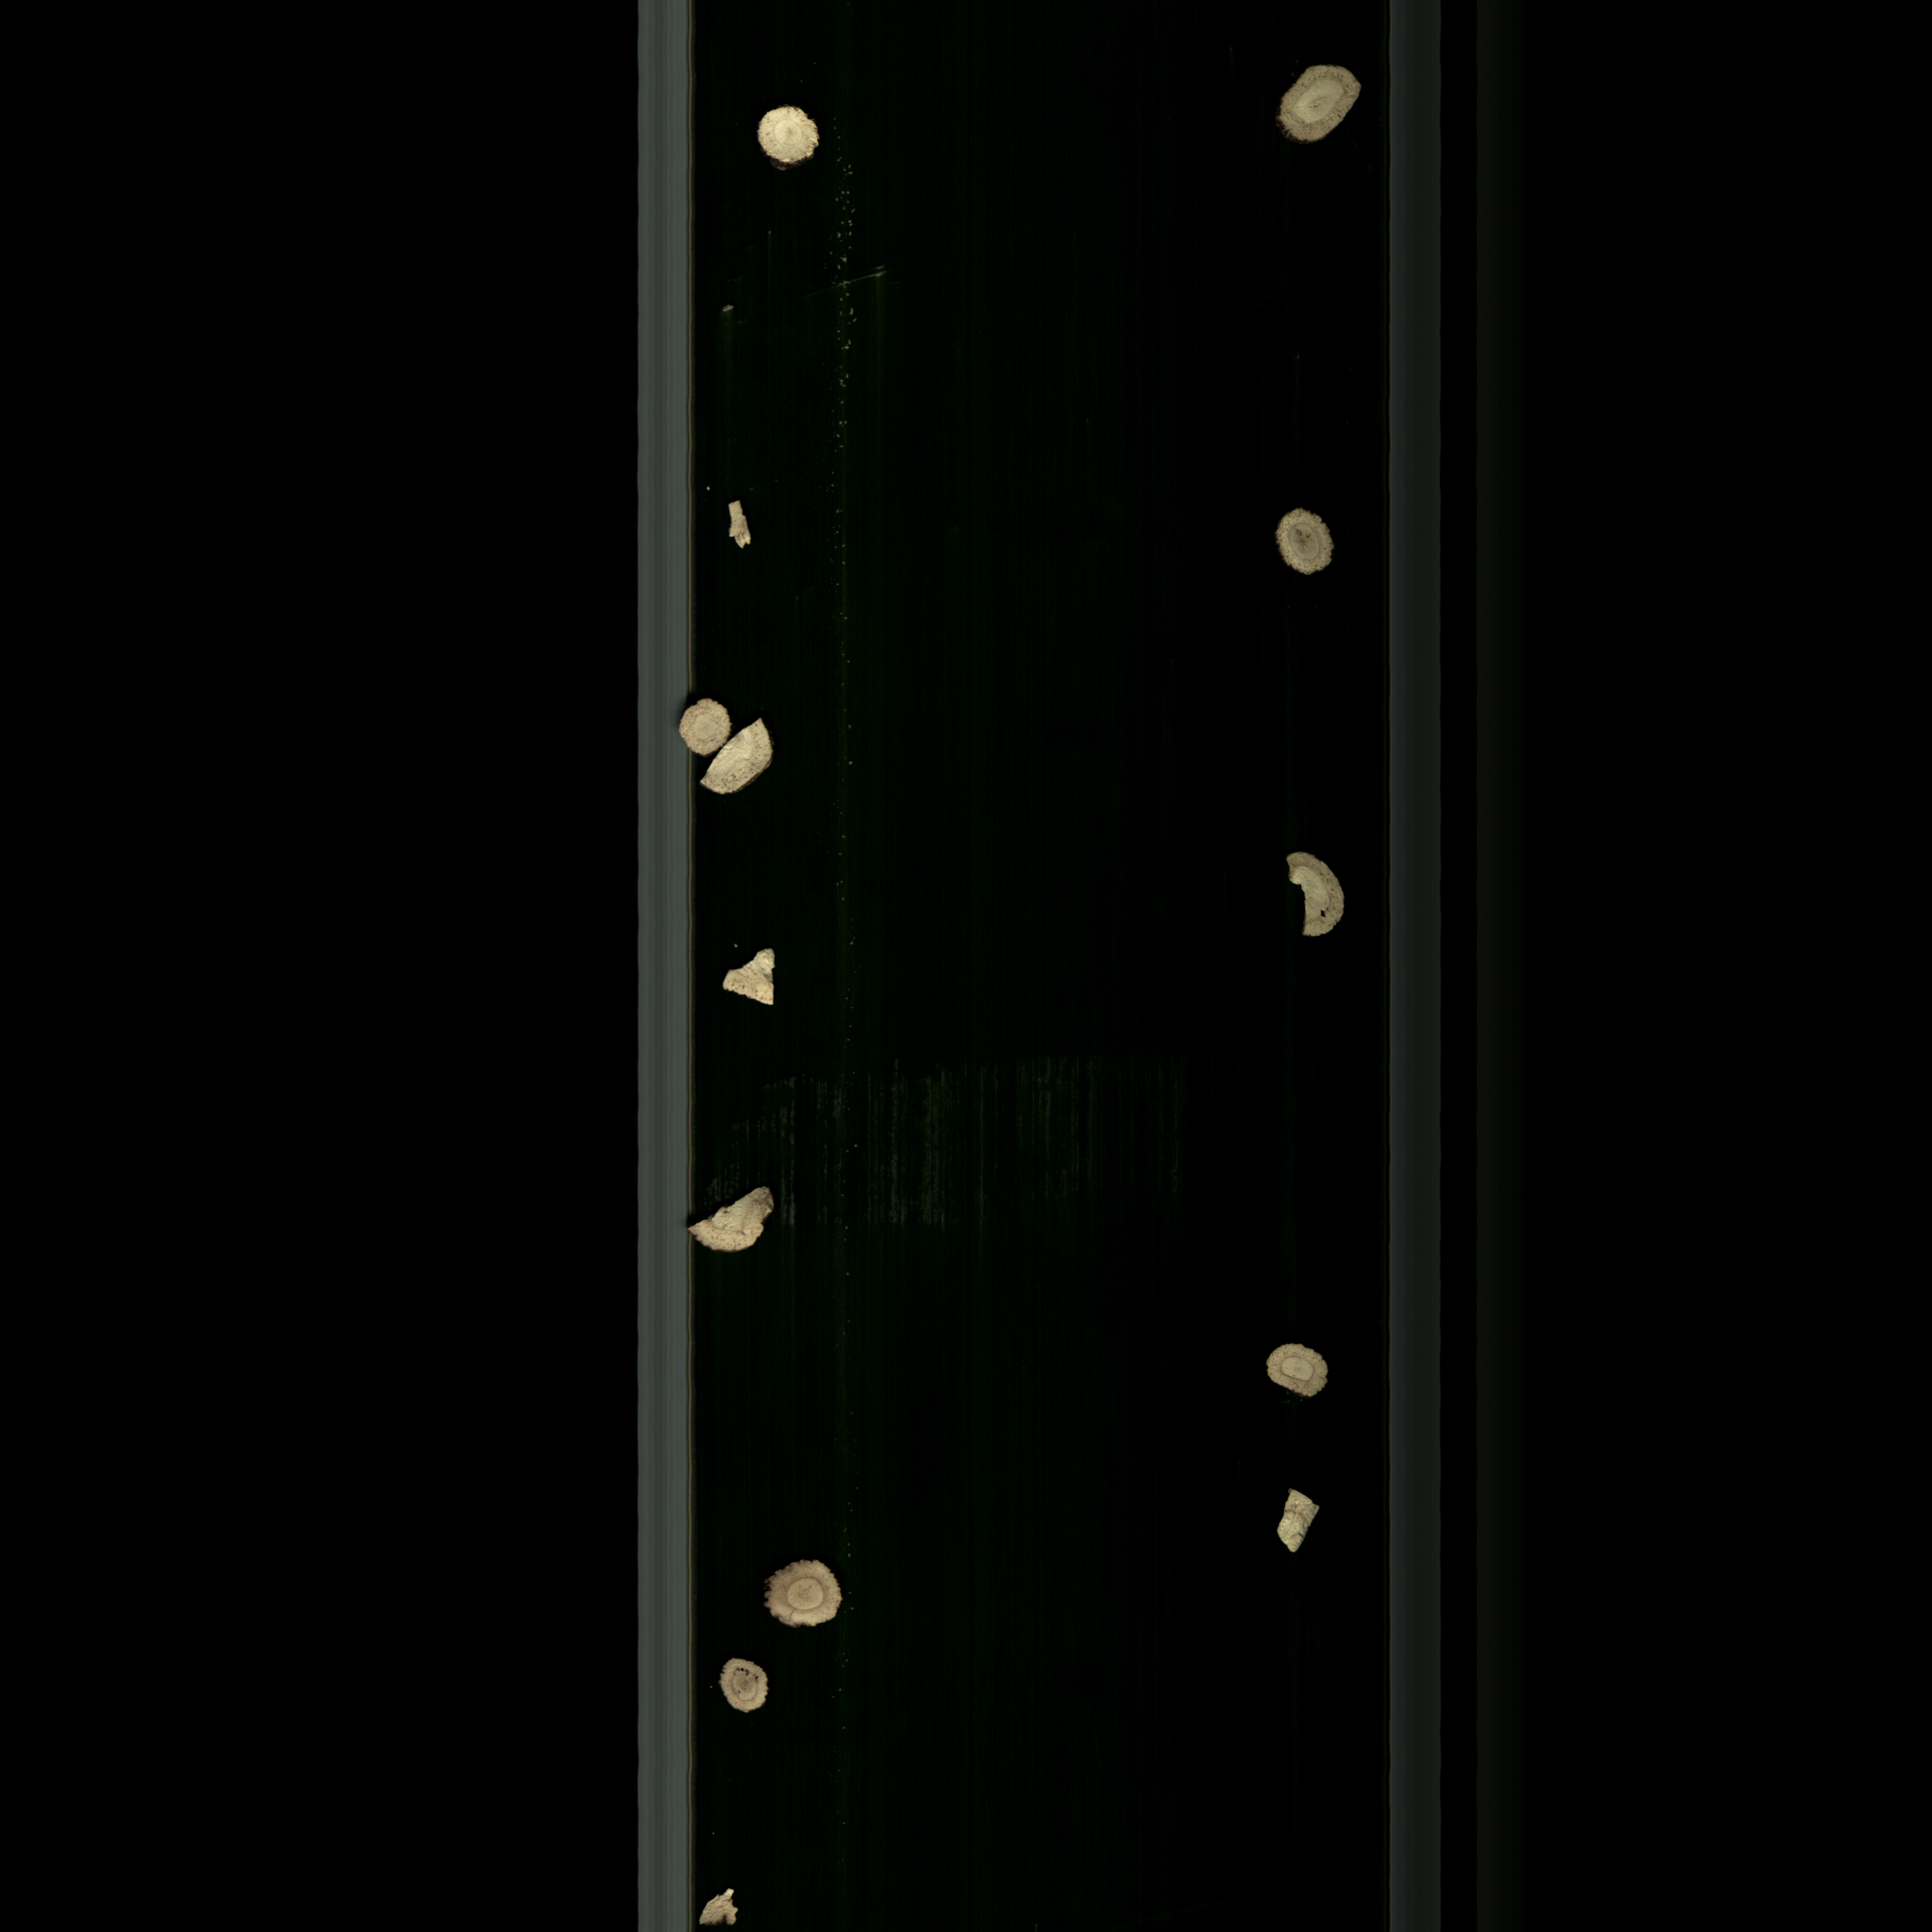debris: (699, 717, 796, 816), (678, 1180, 782, 1261)
distortion: (1251, 1339, 1348, 1405), (1267, 1483, 1330, 1575), (722, 495, 759, 563), (695, 1882, 750, 1925)
dreg: (717, 936, 782, 1019)
hole: (713, 1651, 782, 1725)
moldy: (1269, 837, 1355, 954), (1270, 58, 1361, 170), (748, 1552, 862, 1637), (1263, 499, 1350, 593)
